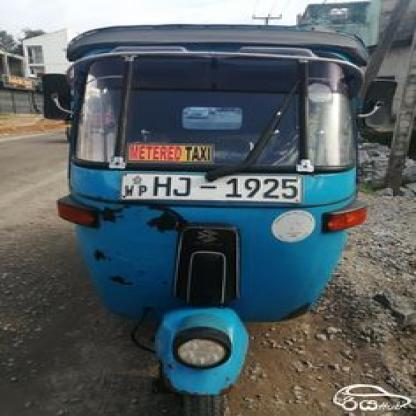number plate: (121, 174, 302, 201)
three wheeler front: (37, 25, 411, 416)
